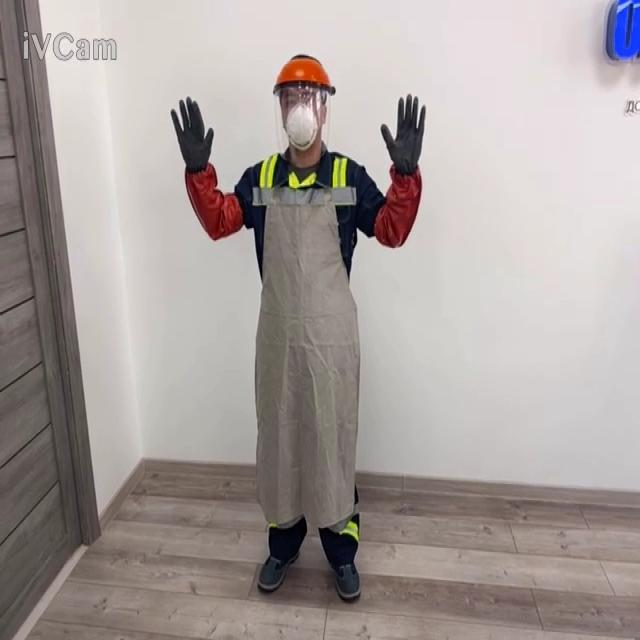Gloves: (170, 96, 243, 240), (380, 93, 426, 175), (170, 96, 213, 173)
Mask: (283, 94, 320, 150)
Protective apron: (251, 180, 361, 531)
Safety Shoes: (257, 548, 299, 591), (333, 560, 360, 599)
Sleeve: (184, 160, 243, 240), (374, 163, 422, 248)
